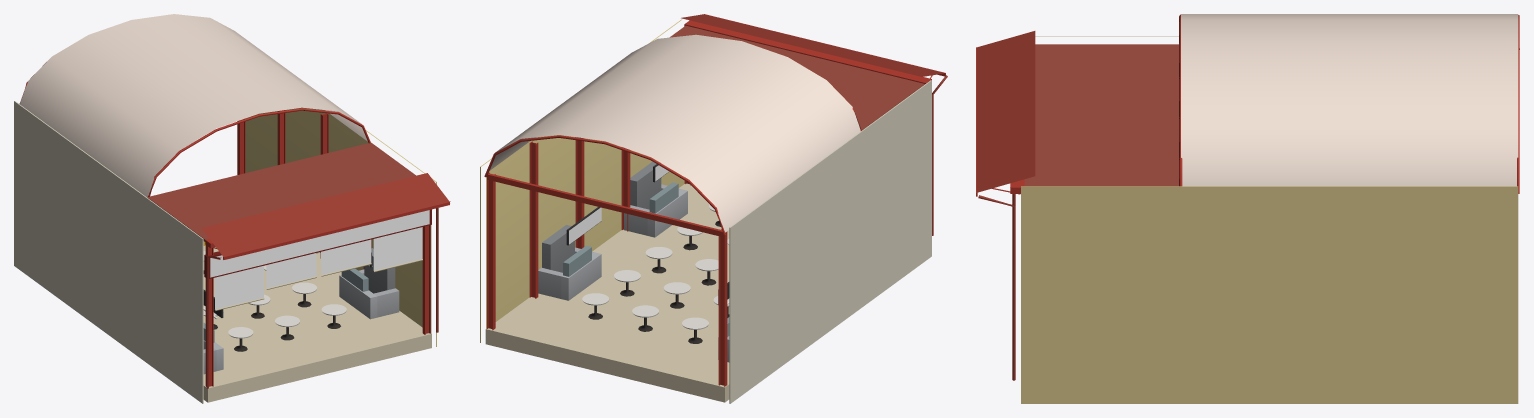
File: foodcourt.lod1.glb
3 renders of one model, left to right at view 1: azimuth 30°, elevation 25°; view 2: azimuth 150°, elevation 25°; view 3: azimuth 270°, elevation 25°, orthographic. The views are drawn at different scales.
Parts seen in each view (by area): view 1: foodcourt-lod1; view 2: foodcourt-lod1; view 3: foodcourt-lod1.
Boxes of the visible parts, x1,y1,x2,y2 form: foodcourt-lod1: [14, 14, 450, 403]; foodcourt-lod1: [480, 14, 947, 403]; foodcourt-lod1: [976, 14, 1519, 403].
Size of the model in its own units: 10.04 by 8.9 by 15.32.
